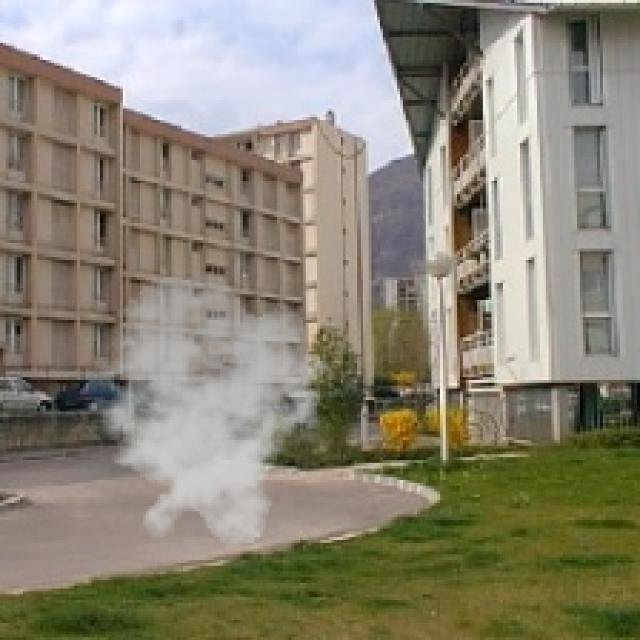smoke: (72, 272, 337, 548)
